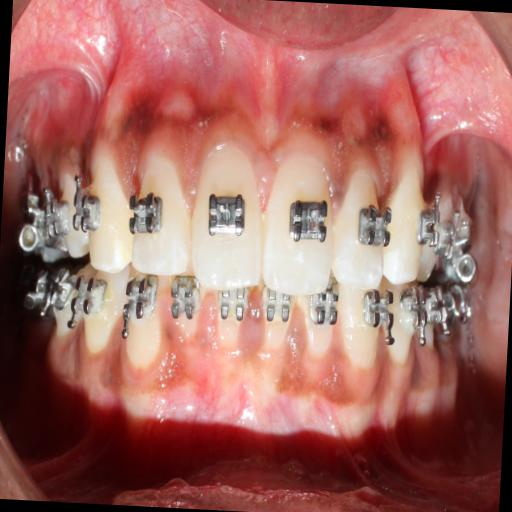correct_brace: (200, 188, 250, 242), (285, 193, 332, 250)
